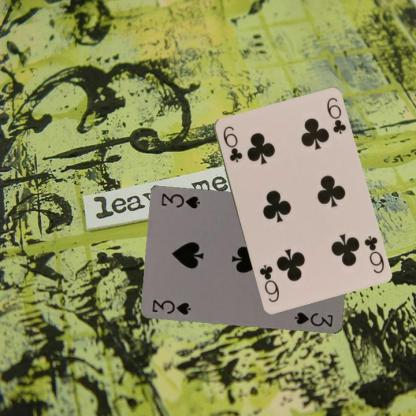3s: (150, 297, 192, 316)
6c: (220, 123, 244, 164), (361, 233, 385, 274)
